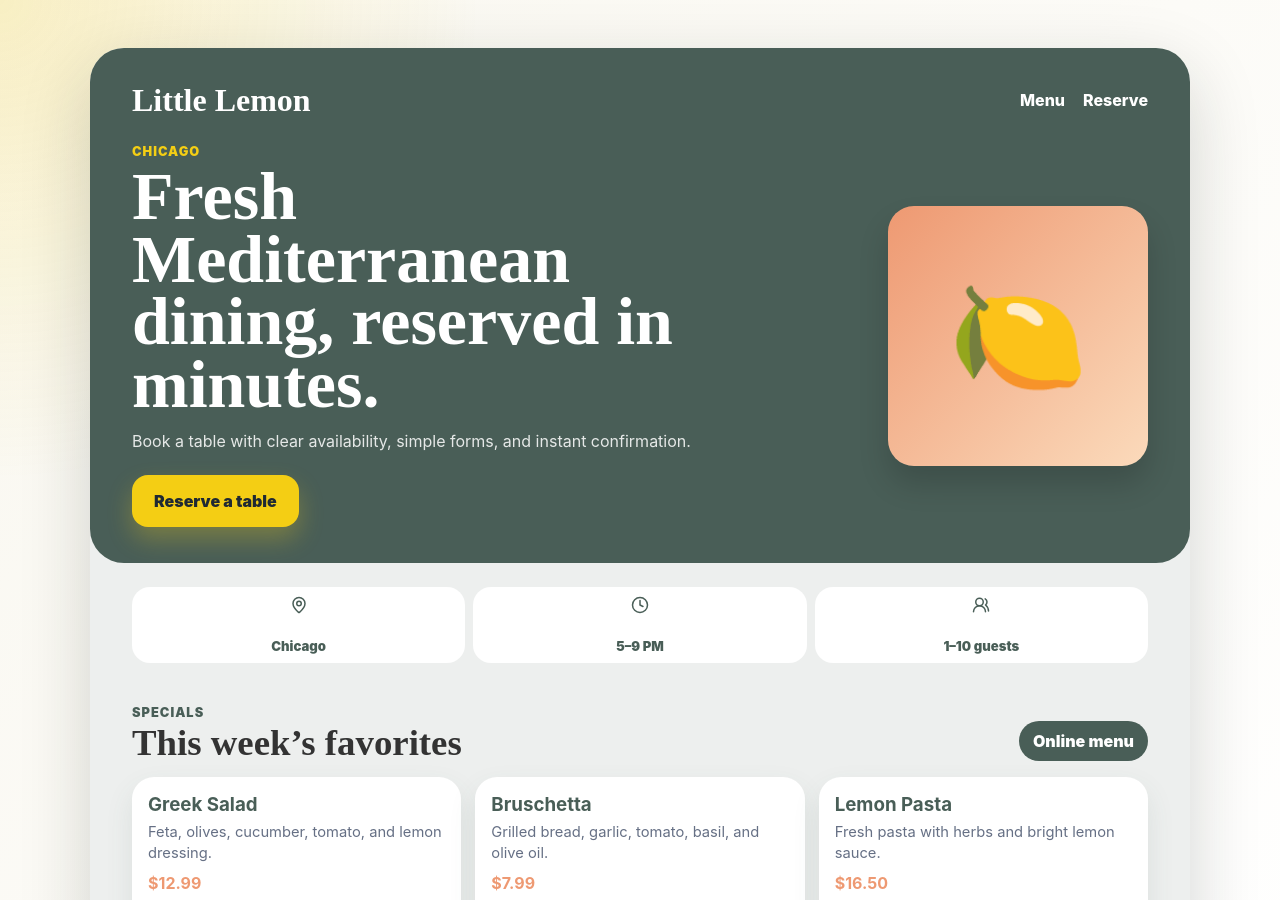
Test case: Little Lemon reservation flow › shows validation on missing reservation details
The width and height of the screenshot is (1280, 900).
Click the button "Reserve a table" at x=215, y=501, box [132,475,299,527]
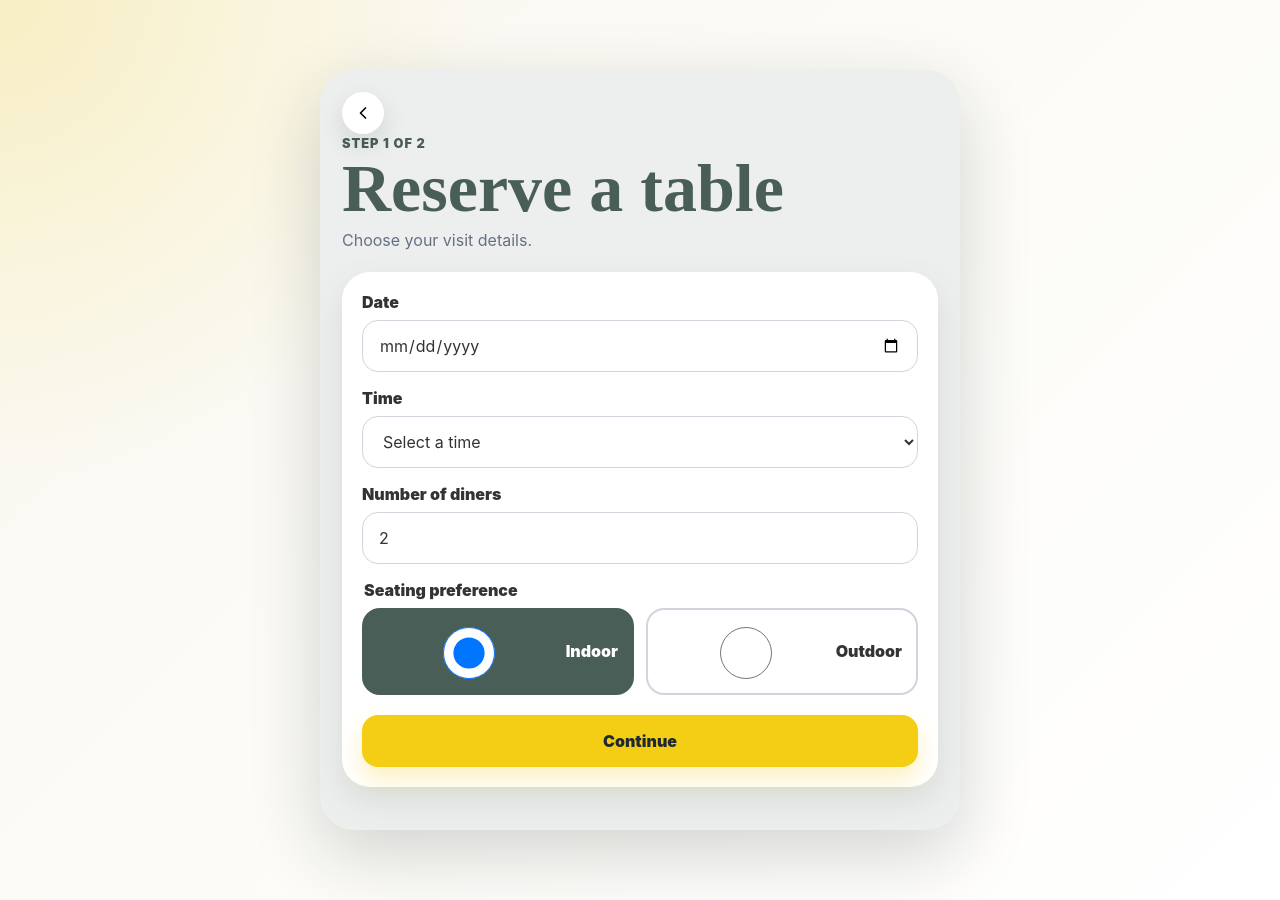
Click the button "Continue" at x=640, y=740, box [362,714,918,766]
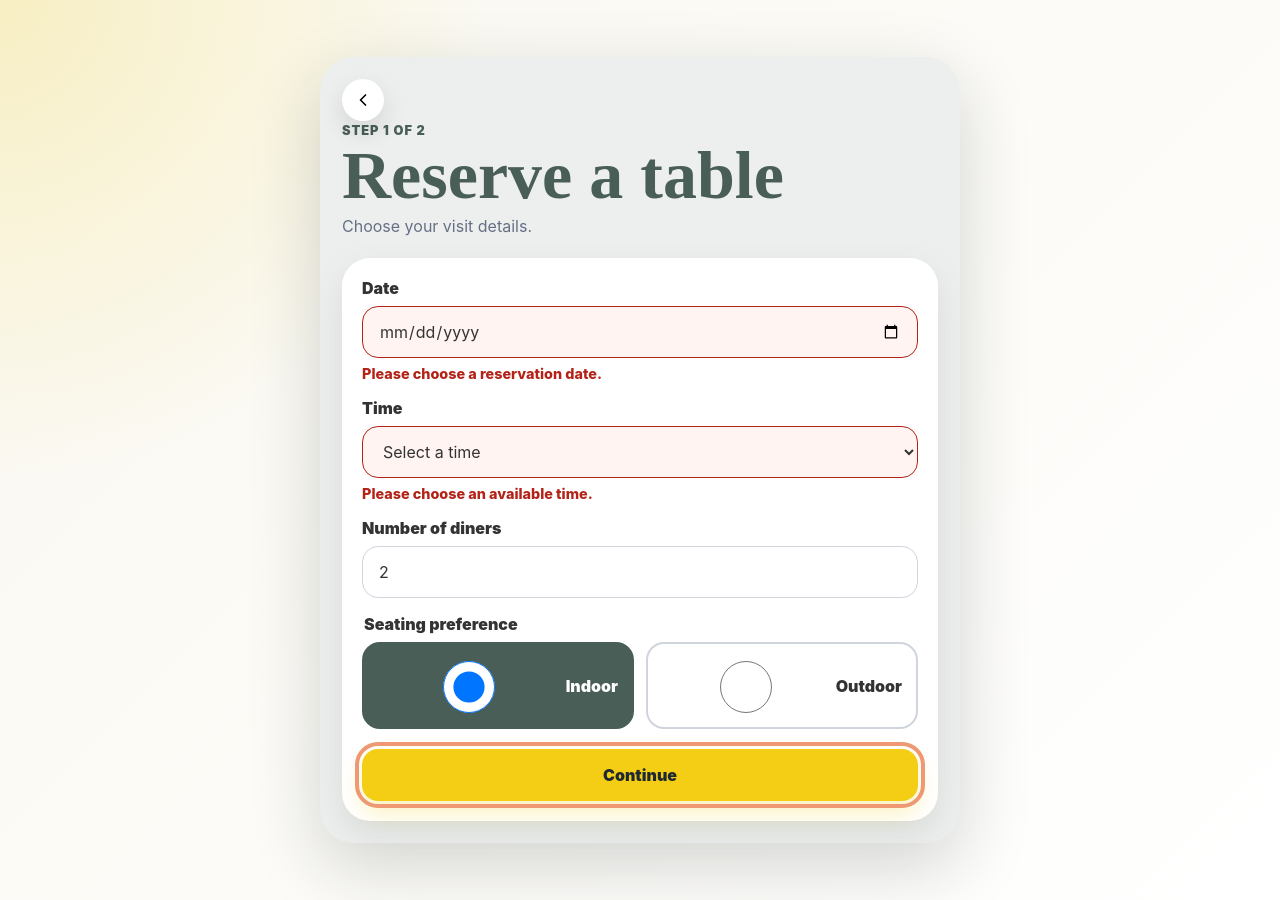
Now the text "Please choose a reservation date." is shown, box [362,365,602,382]
Now the text "Please choose an available time." is shown, box [362,485,593,502]
